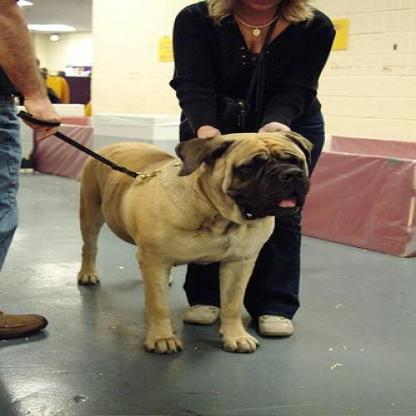bull_mastiff: (72, 129, 312, 353)
